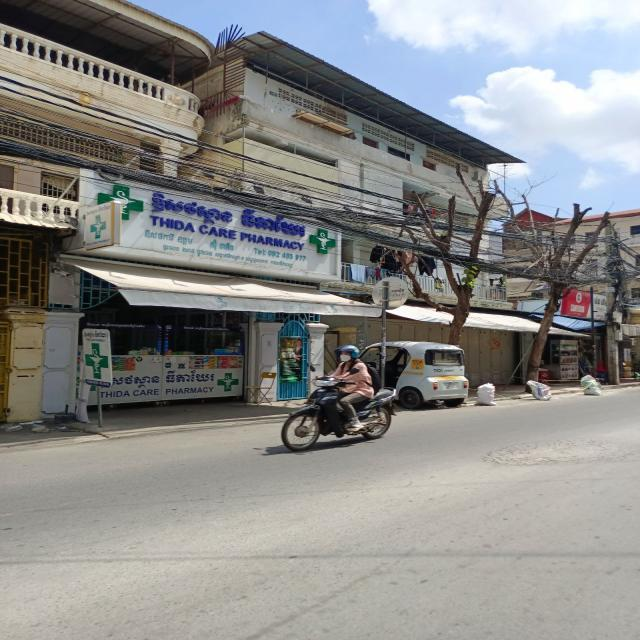1: (145, 190, 311, 242), (142, 226, 195, 246)
436: (267, 248, 307, 264)
Yolov11kh: (163, 369, 216, 384), (111, 374, 161, 388)
